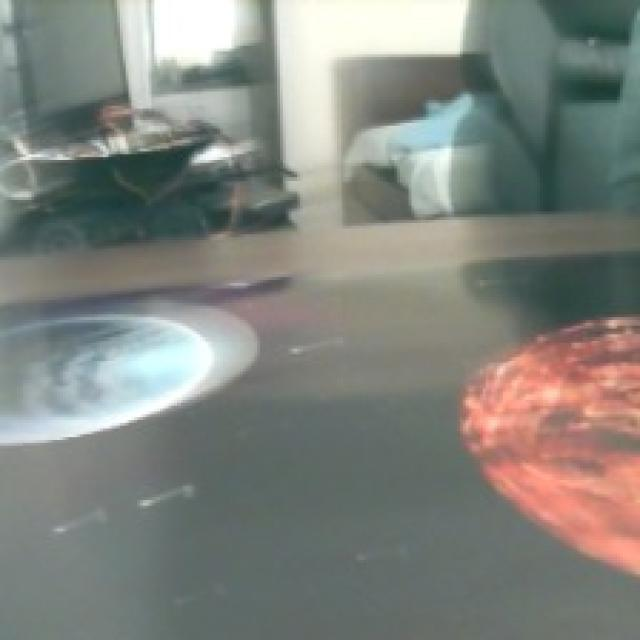Earth: (0, 306, 211, 455)
Sun: (459, 312, 640, 582)
